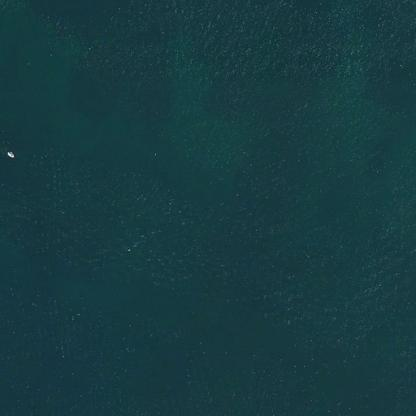ship: (2, 143, 18, 163)
